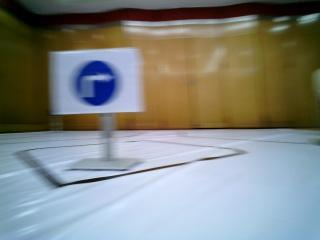right: (54, 50, 136, 110)
